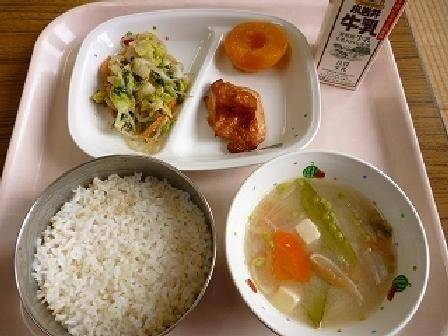Meat: (187, 70, 276, 161)
Milk: (308, 0, 407, 87)
Rice: (15, 147, 221, 333)
Salad: (75, 21, 194, 152)
Soups: (229, 155, 427, 332)
peach: (215, 11, 295, 79)
